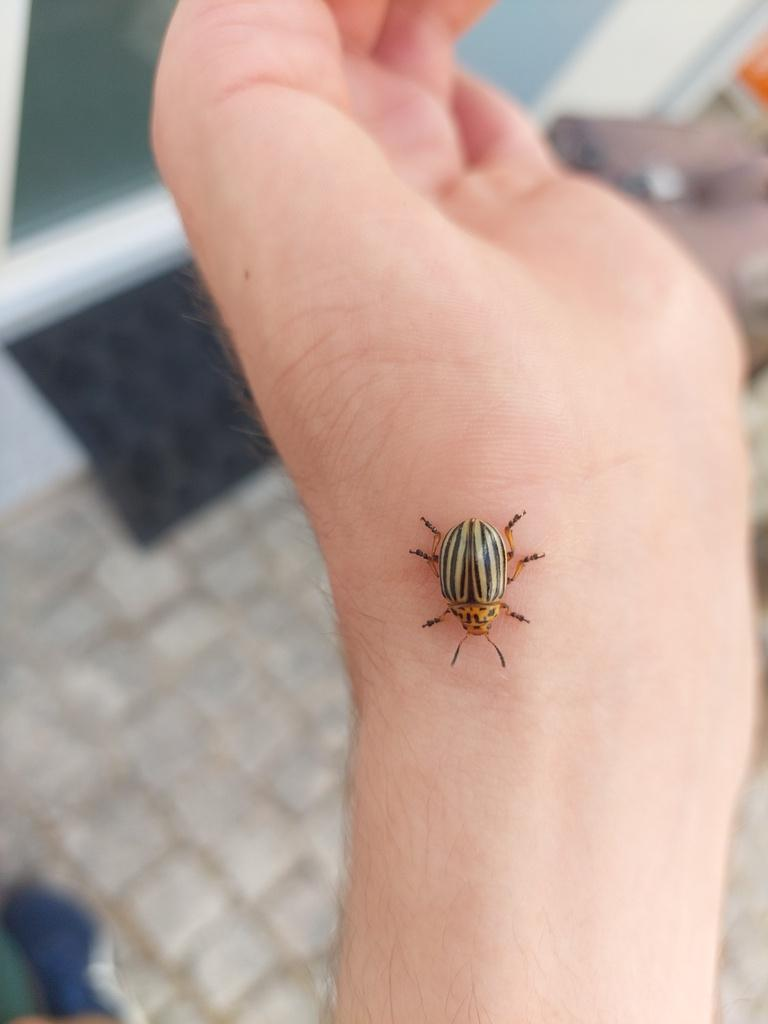potato_beetle: (381, 477, 568, 697)
